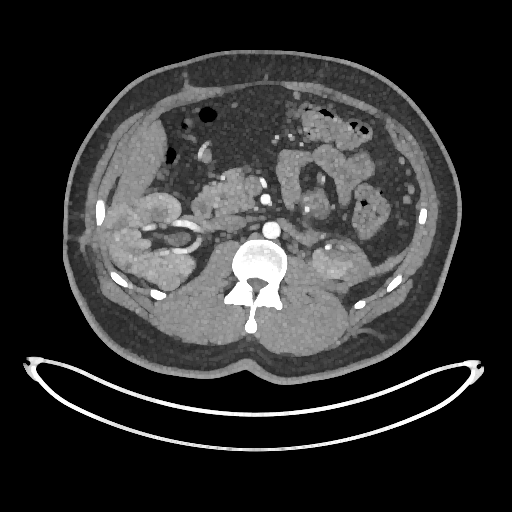Lesion: (152, 273, 183, 295)
